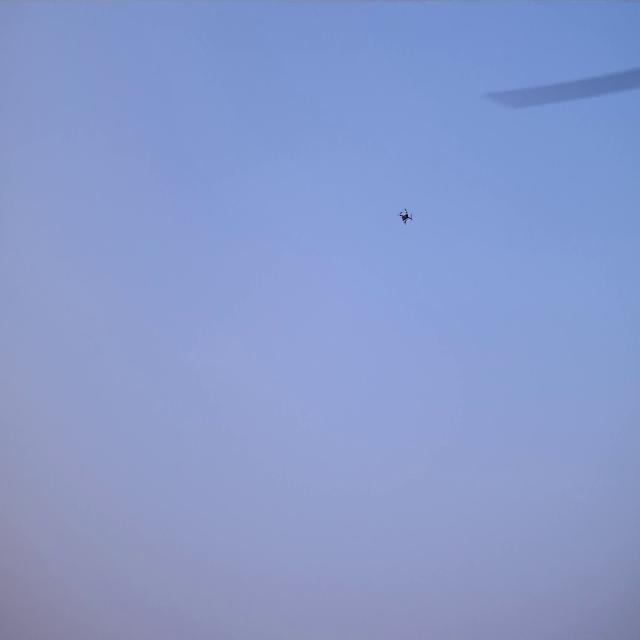UAV: (399, 209, 412, 224)
